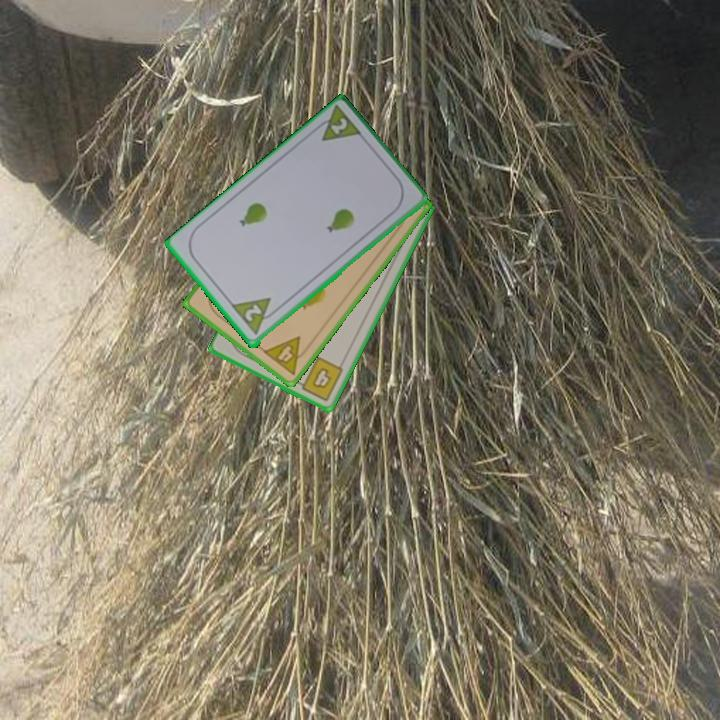2p: (241, 301, 265, 325), (327, 114, 351, 138)
4b: (292, 353, 346, 404)
4p: (259, 333, 314, 378)
